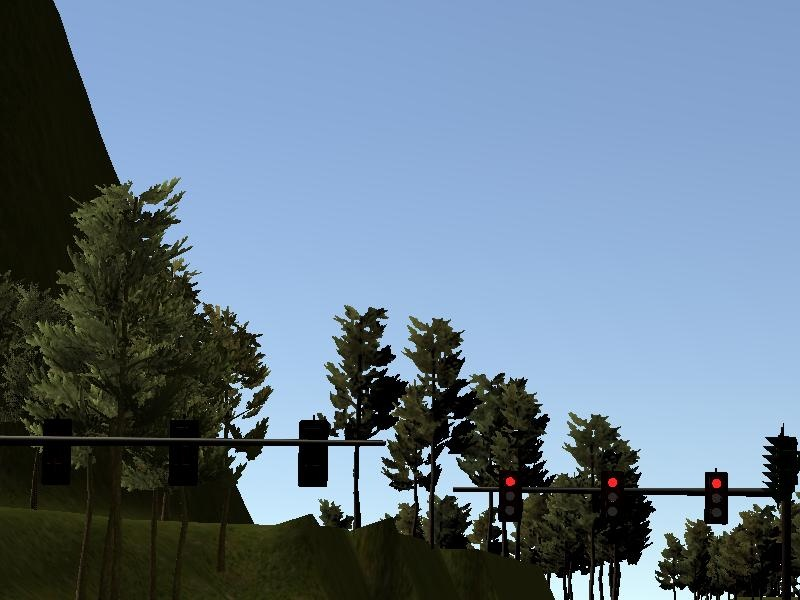traffic_light_red: (483, 469, 767, 527)
